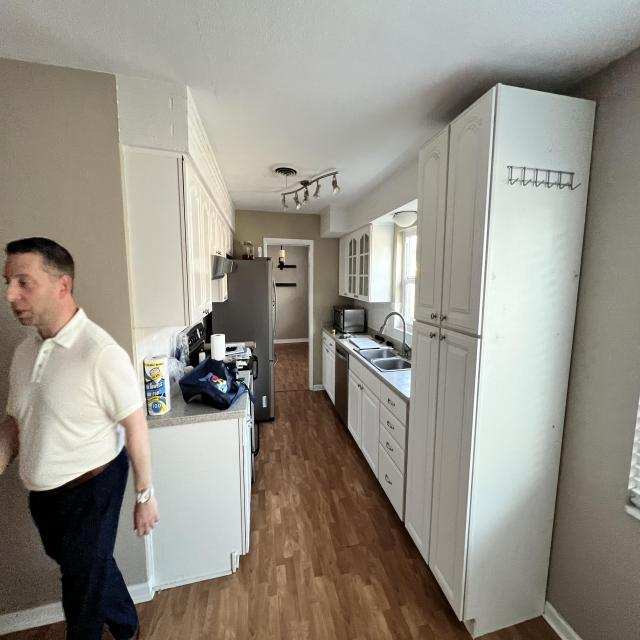Appliance_Fridge: (214, 256, 275, 423)
Appliance_Microwave: (333, 306, 366, 334)
Appliance_Sink: (360, 312, 411, 370)
Cabinet_Flat: (350, 357, 408, 520), (323, 329, 336, 359)
Cabinet_Glass: (347, 229, 371, 301)
Cabinet_Raised_Panel: (405, 87, 497, 624), (184, 161, 232, 327), (348, 375, 380, 476), (241, 418, 252, 556), (322, 346, 335, 403), (339, 237, 349, 297)
Countertop_Granite: (339, 339, 410, 396), (148, 394, 246, 427)
